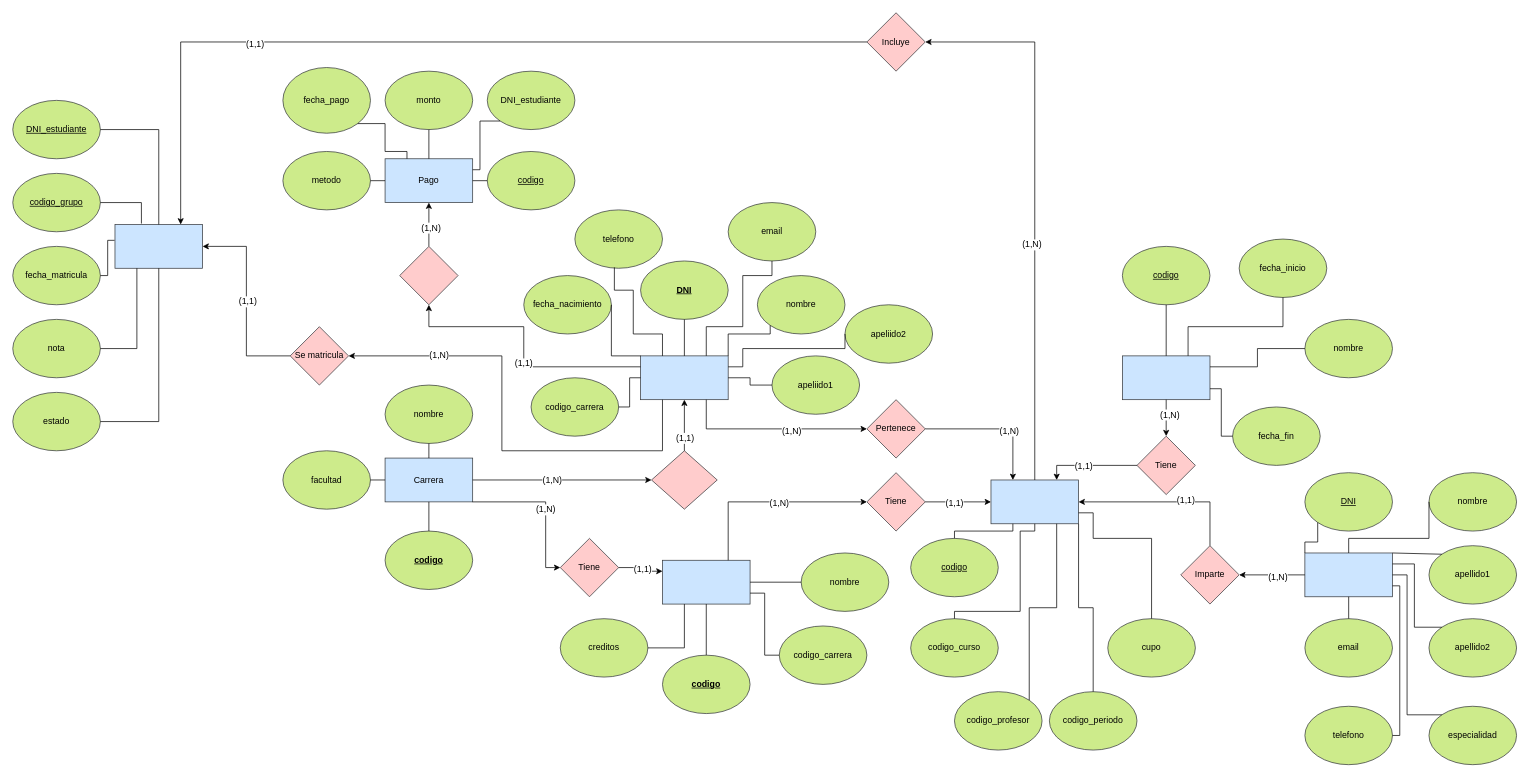
This 1529x777 diagram has some shape labels left out. Each missing label, with the box of its shape:
Curso: (662, 560, 750, 604)
Es matriculada: (651, 450, 717, 509)
Estudiante: (640, 355, 728, 400)
Grupo: (990, 479, 1079, 524)
Matricula: (114, 224, 203, 268)
Periodo: (1122, 355, 1210, 400)
Profesor: (1304, 552, 1392, 597)
Realiza: (399, 246, 458, 305)
